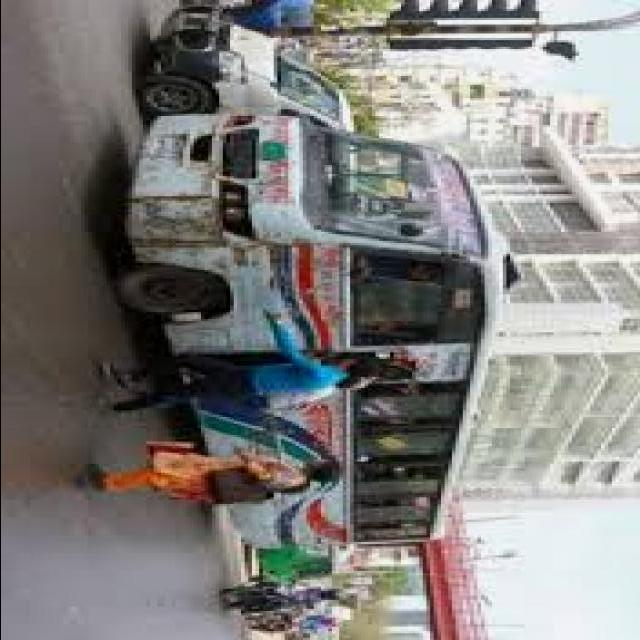bus: (112, 114, 516, 549)
